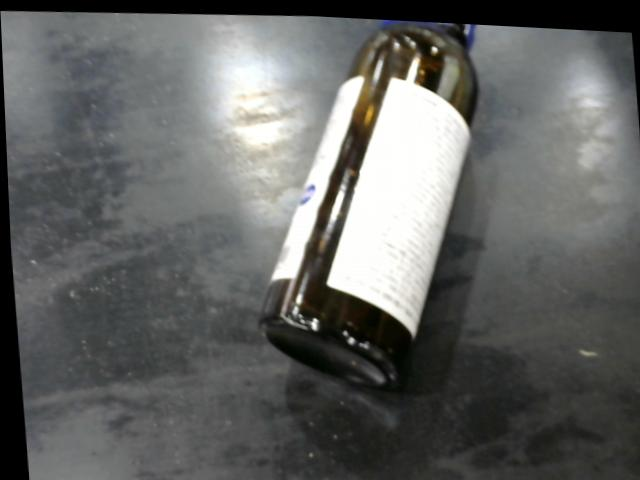glass: (252, 16, 483, 391)
